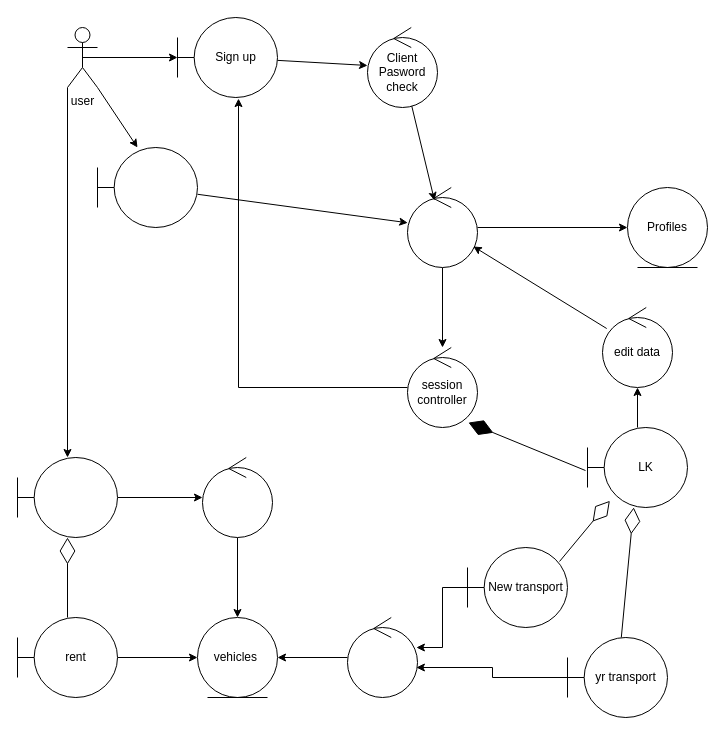
Image size: 725x735. Some labels were removed from this diagram. Here are the shapes that lost their labels. From the top down, the centre of each, then its label:
point (147, 187): Login
point (442, 227): BD control
point (67, 497): Transport page
point (237, 497): Sort By
point (382, 657): vehicles controller
